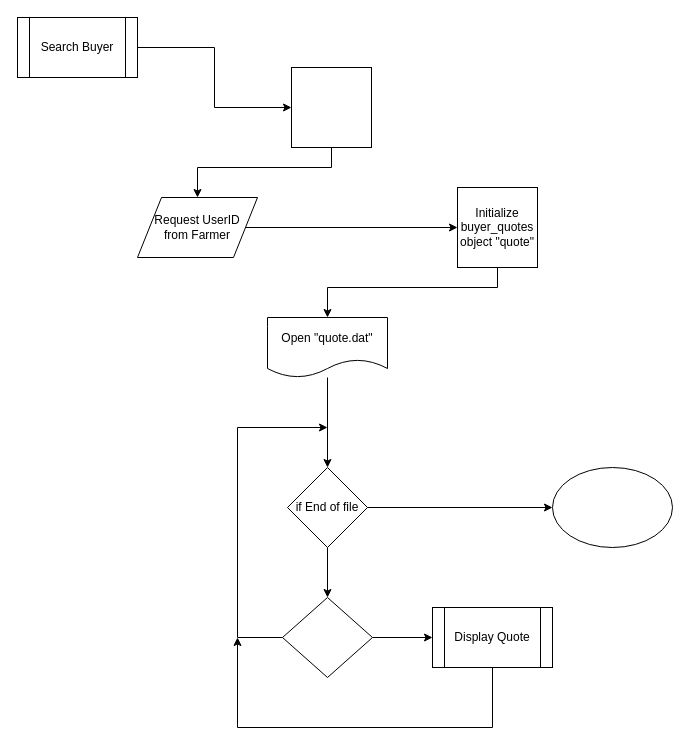
Some shapes in this 690 by 753 pixel diagram are drawn without their labels. The centre of each missing label's shape, as x and y in pixels:
Clear console: pixel 331 107
if quote userID = input ID: pixel 327 637
Terminate Proceess: pixel 612 507
